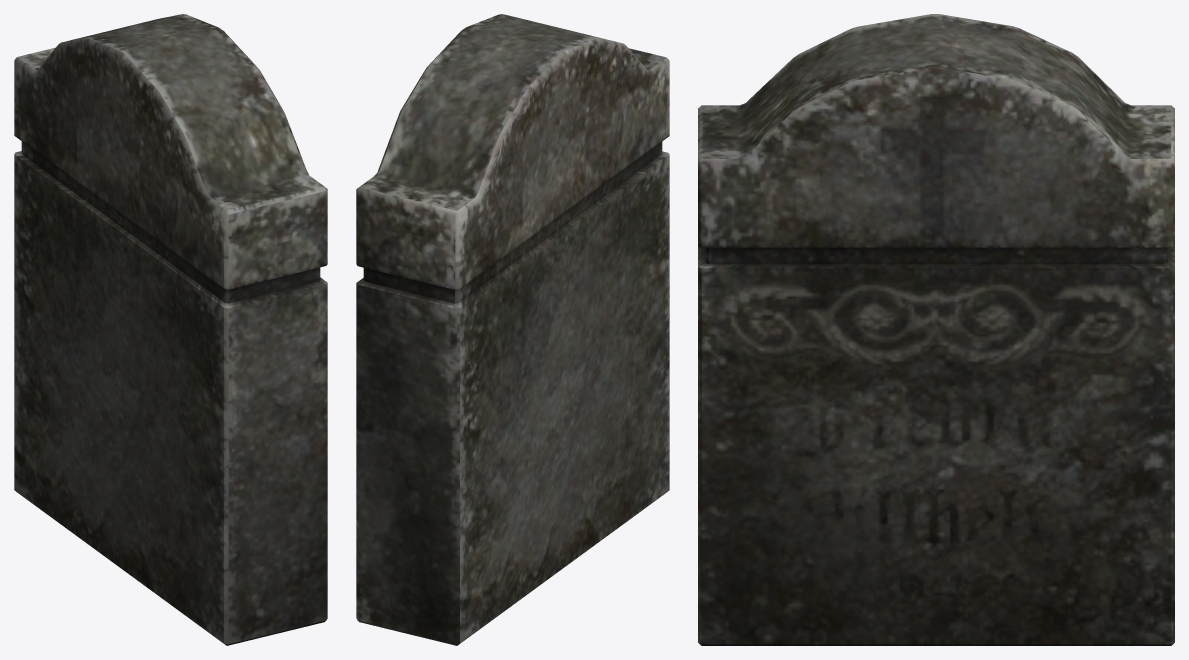
The model's file is tombstone01.dae.
The picture shows the model from 3 angles, left to right: view 1: azimuth 30°, elevation 25°; view 2: azimuth 150°, elevation 25°; view 3: azimuth 270°, elevation 25°; orthographic projection. The views are drawn at different scales.
Visible parts, largest first — view 1: pCube1; view 2: pCube1; view 3: pCube1.
Part boxes in pixels (bbox=[...]): pCube1: bbox=[14, 14, 327, 645]; pCube1: bbox=[356, 14, 669, 645]; pCube1: bbox=[698, 14, 1174, 645].
Size of the model in its own units: 0.1462 by 0.6967 by 0.5206.
